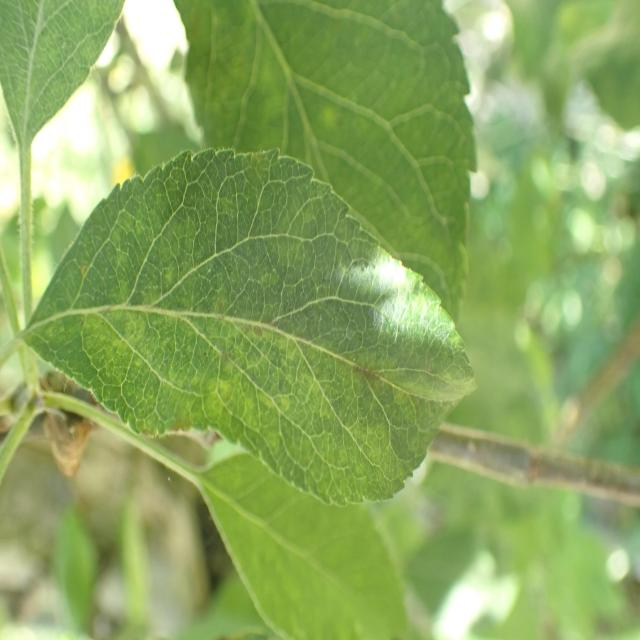scab: (57, 243, 412, 453)
